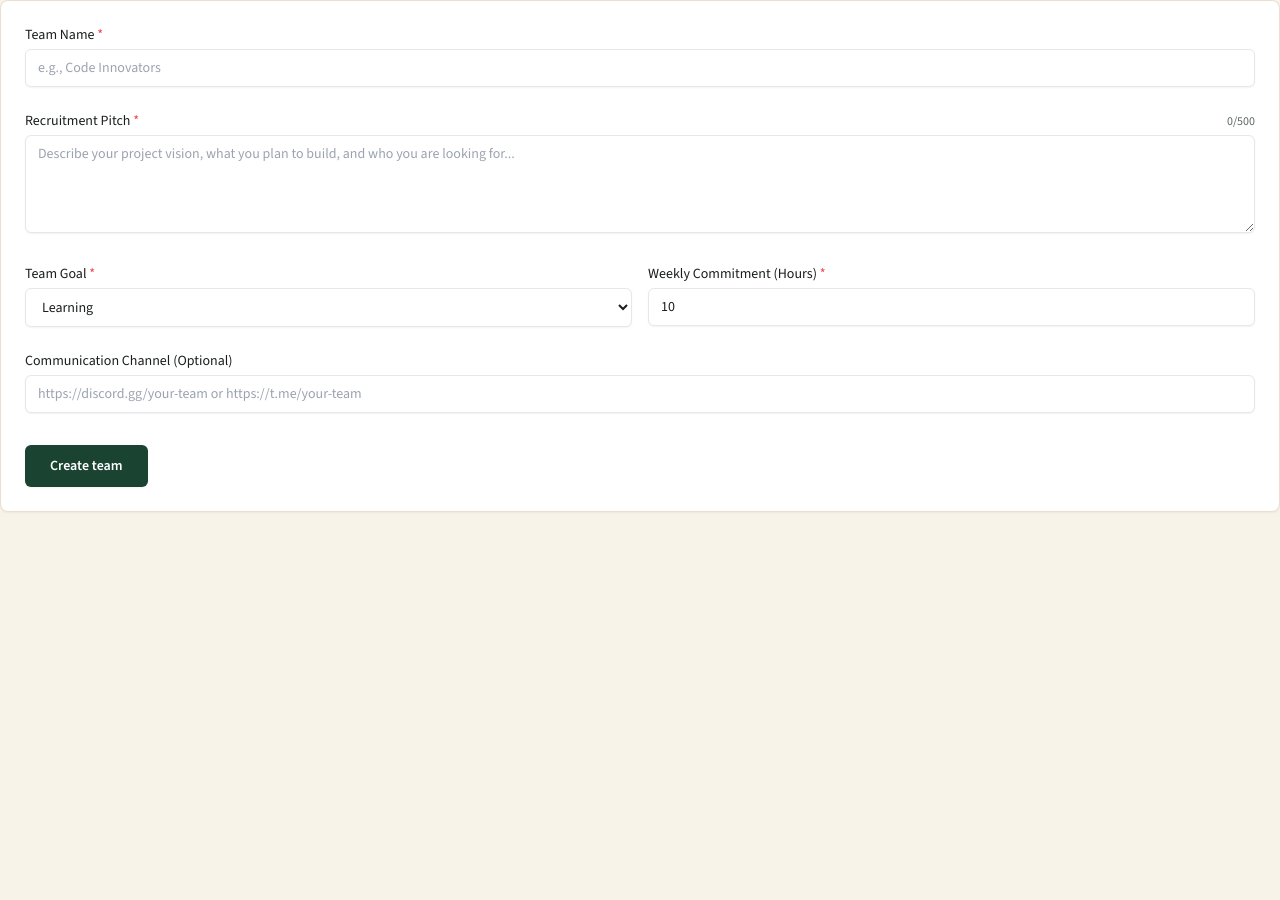
Test case: TeamListingForm component tests (US-012 / Task 8 / #125) › shows validation errors with role="alert" when required fields are missing
This screenshot has width=1280, height=900.
Name and Pitch are empty by default
Click the button "Create team" at (86, 466), box [25,445,148,487]
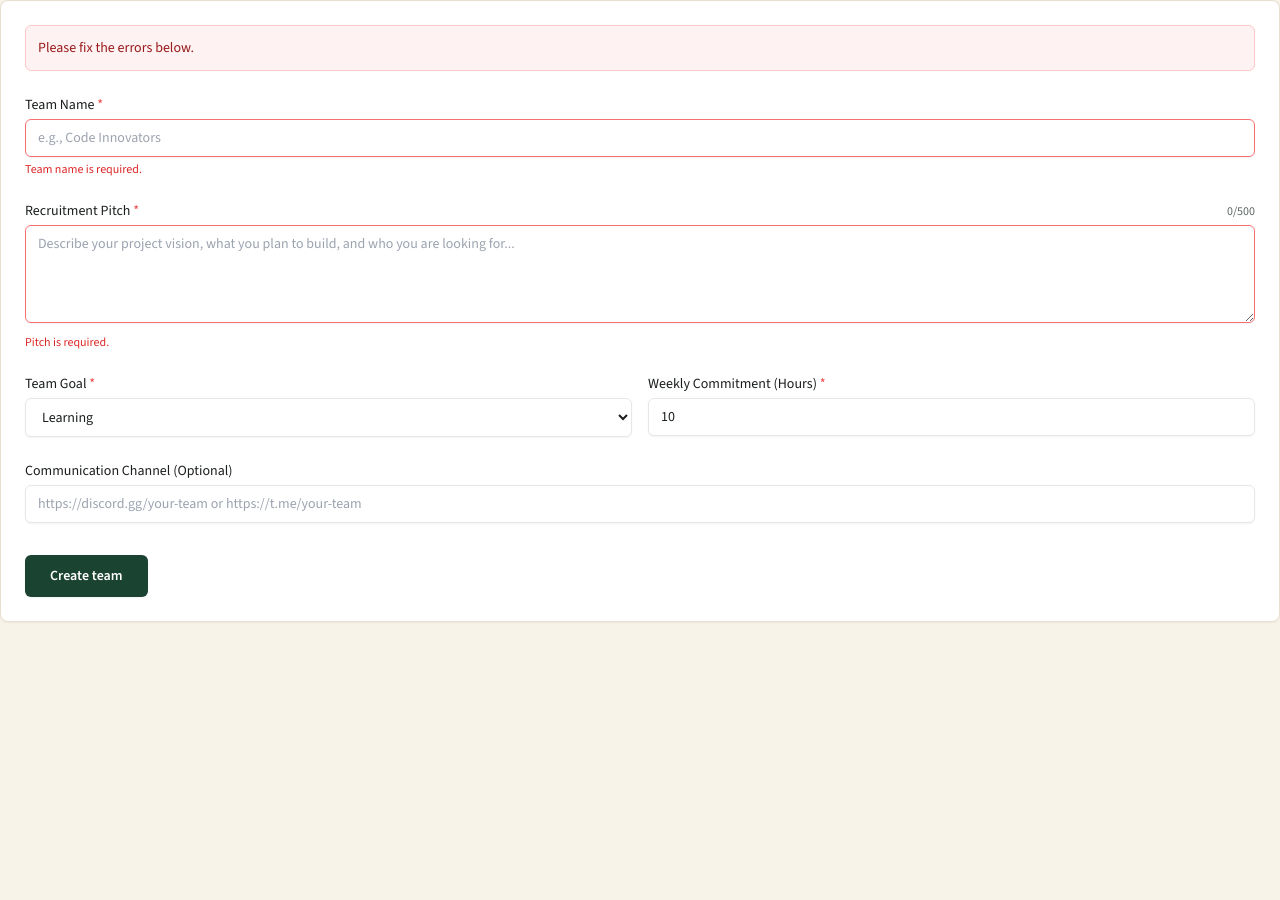
Result: the text "Team name is required." is shown at [25,161,142,177]
Result: the text "Pitch is required." is shown at [25,334,109,350]
